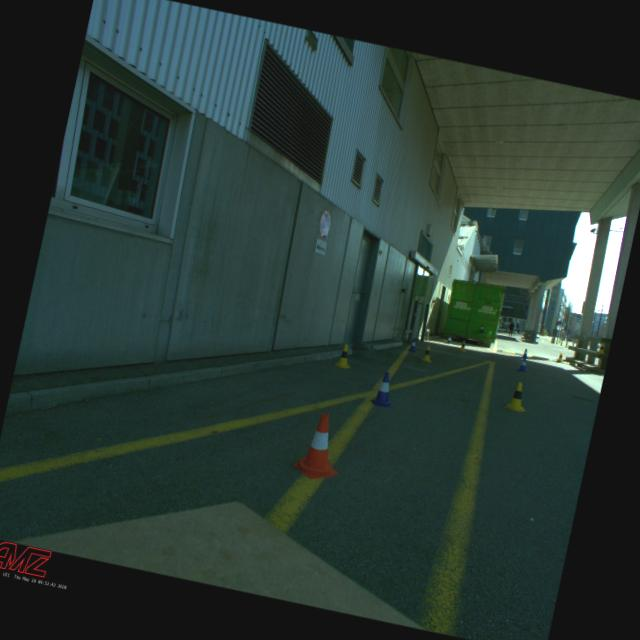blue_cone: (368, 370, 401, 410), (517, 356, 529, 372), (407, 337, 419, 352), (521, 348, 529, 358), (446, 334, 452, 344)
orange_cone: (292, 408, 351, 483)
yellow_cone: (504, 380, 532, 412), (332, 342, 356, 370), (420, 344, 434, 362), (459, 339, 467, 352), (556, 351, 564, 362)
